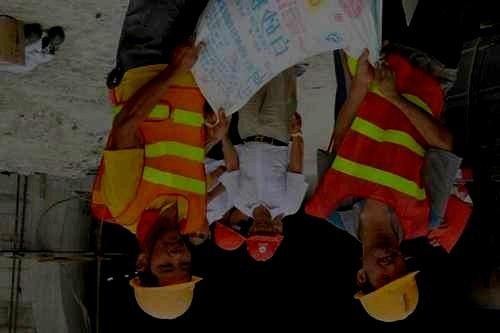helmet: (129, 228, 203, 320), (353, 242, 420, 322), (244, 213, 278, 262), (214, 208, 251, 250), (272, 218, 284, 251)
